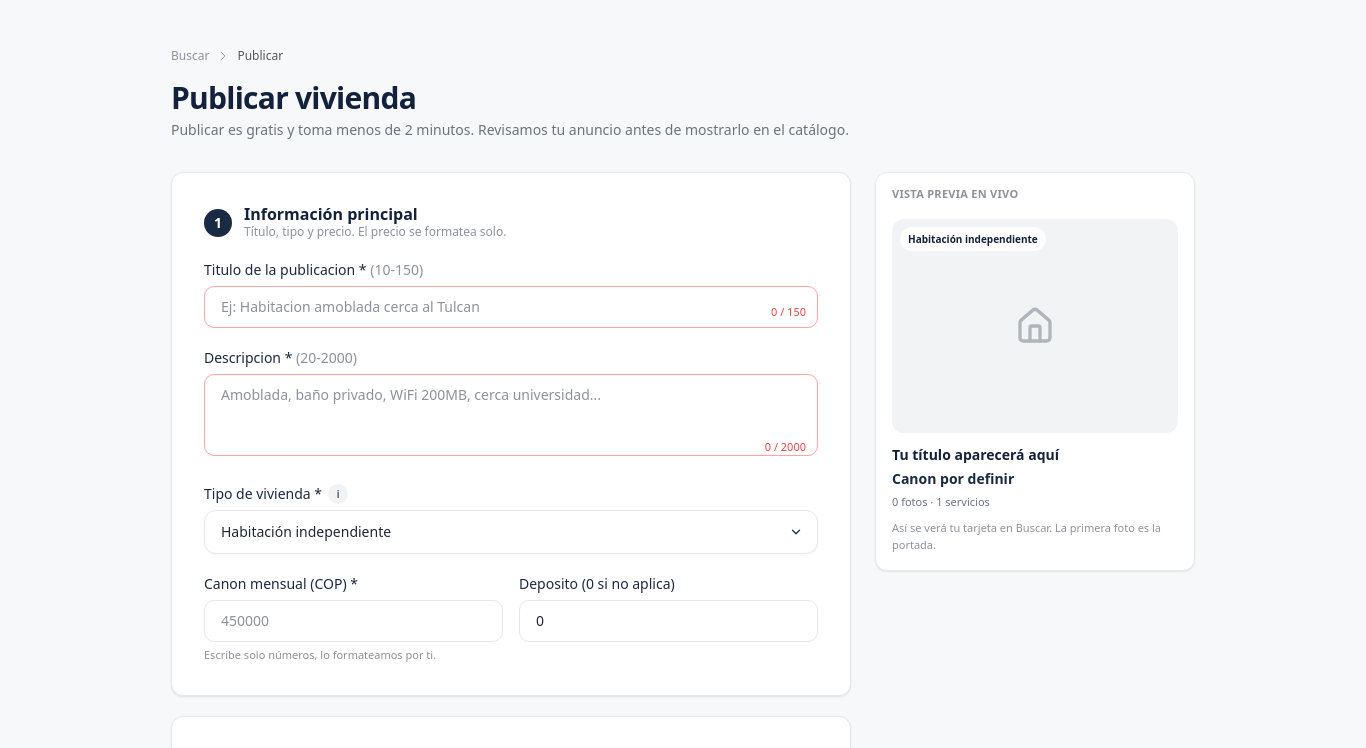
Publicar (HU-005: solo ARRENDADOR, nace PENDIENTE) › canon bajo muestra la advertencia de monto total
Type "50000" into the field with placeholder "450000" at {"x": 354, "y": 621}, box [204,600,503,642]
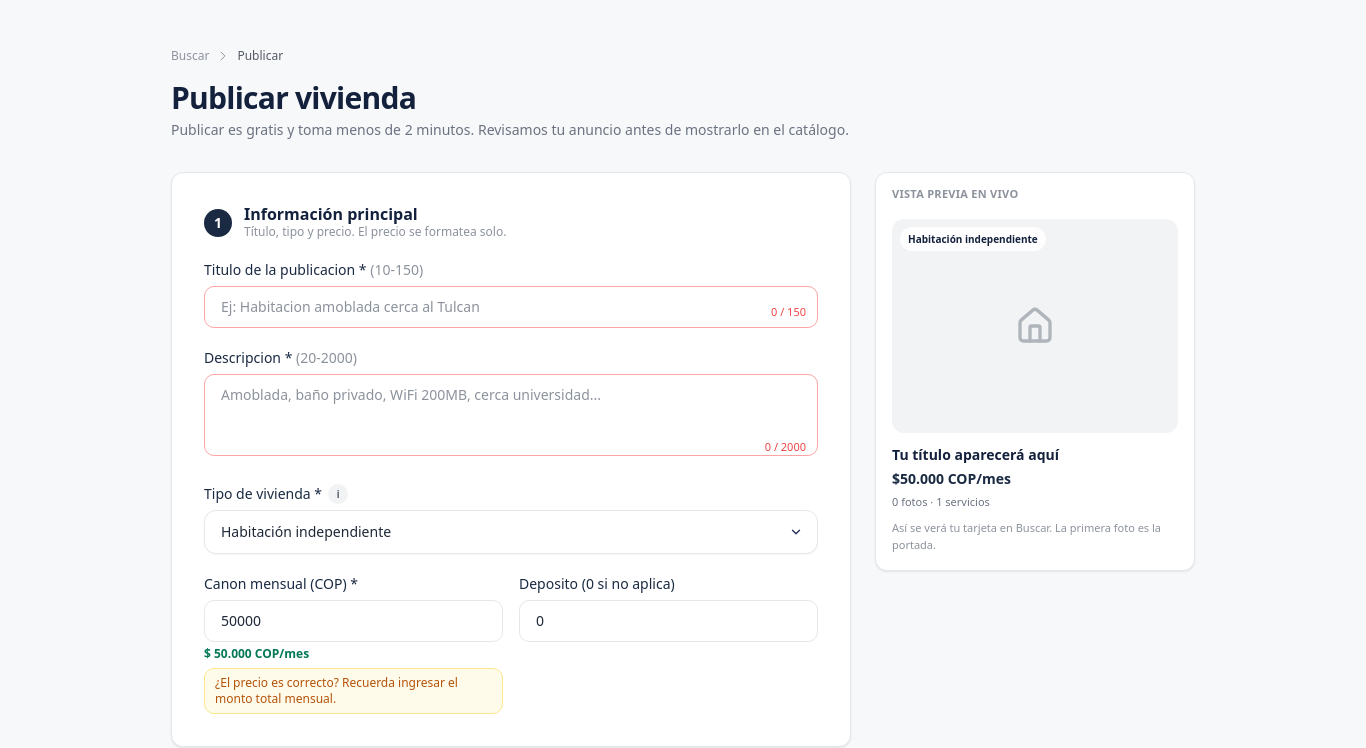
Now the message shows "¿El precio es correcto?", box [215,674,458,707]
